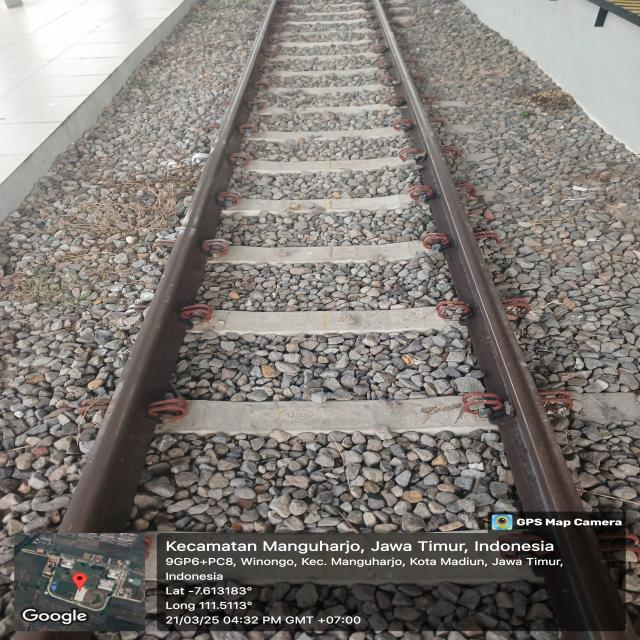rail-detection: (60, 0, 280, 533), (371, 0, 584, 520), (541, 522, 626, 640)
